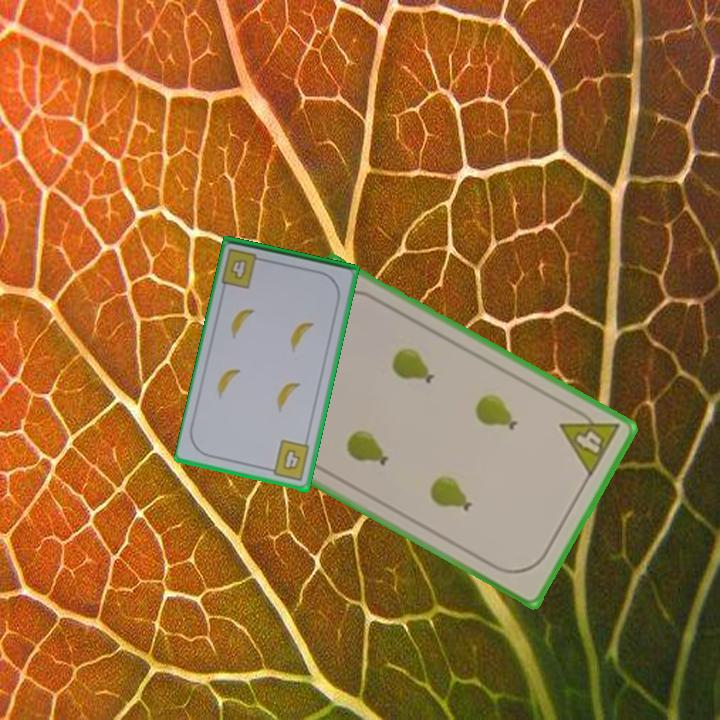4b: (264, 437, 312, 484), (227, 256, 250, 283)
4p: (556, 402, 623, 480)
